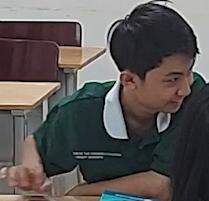Turning_Around: (5, 2, 201, 187)
